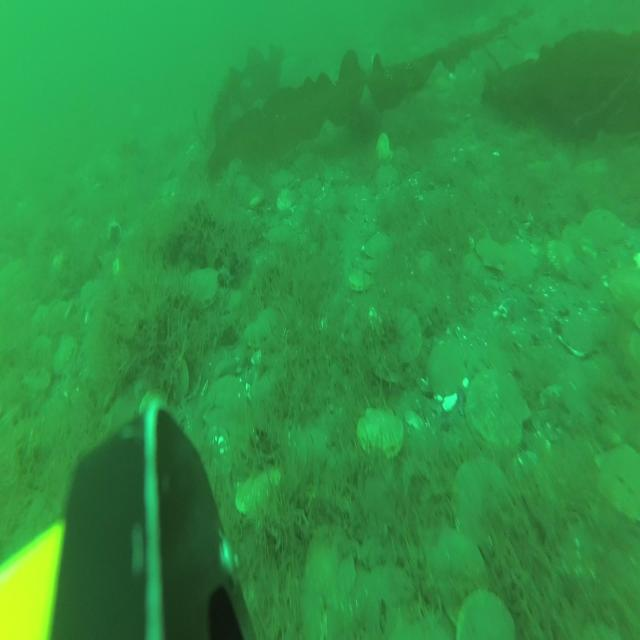scallop: (450, 453, 509, 549), (468, 364, 530, 454), (307, 520, 357, 602), (428, 527, 482, 600), (597, 440, 640, 529), (378, 304, 424, 370), (455, 589, 514, 640), (238, 461, 282, 518), (357, 408, 404, 456), (436, 342, 466, 406), (374, 562, 414, 610), (183, 264, 219, 316), (501, 243, 537, 293), (297, 583, 329, 636), (587, 206, 625, 249), (560, 312, 593, 359), (548, 242, 580, 286), (164, 352, 188, 398), (562, 219, 594, 252), (476, 233, 505, 269), (364, 232, 395, 261), (53, 340, 79, 374), (80, 282, 106, 314), (270, 170, 294, 198), (374, 163, 396, 191), (347, 268, 371, 292), (302, 176, 322, 202), (278, 189, 295, 217), (375, 131, 390, 161)
